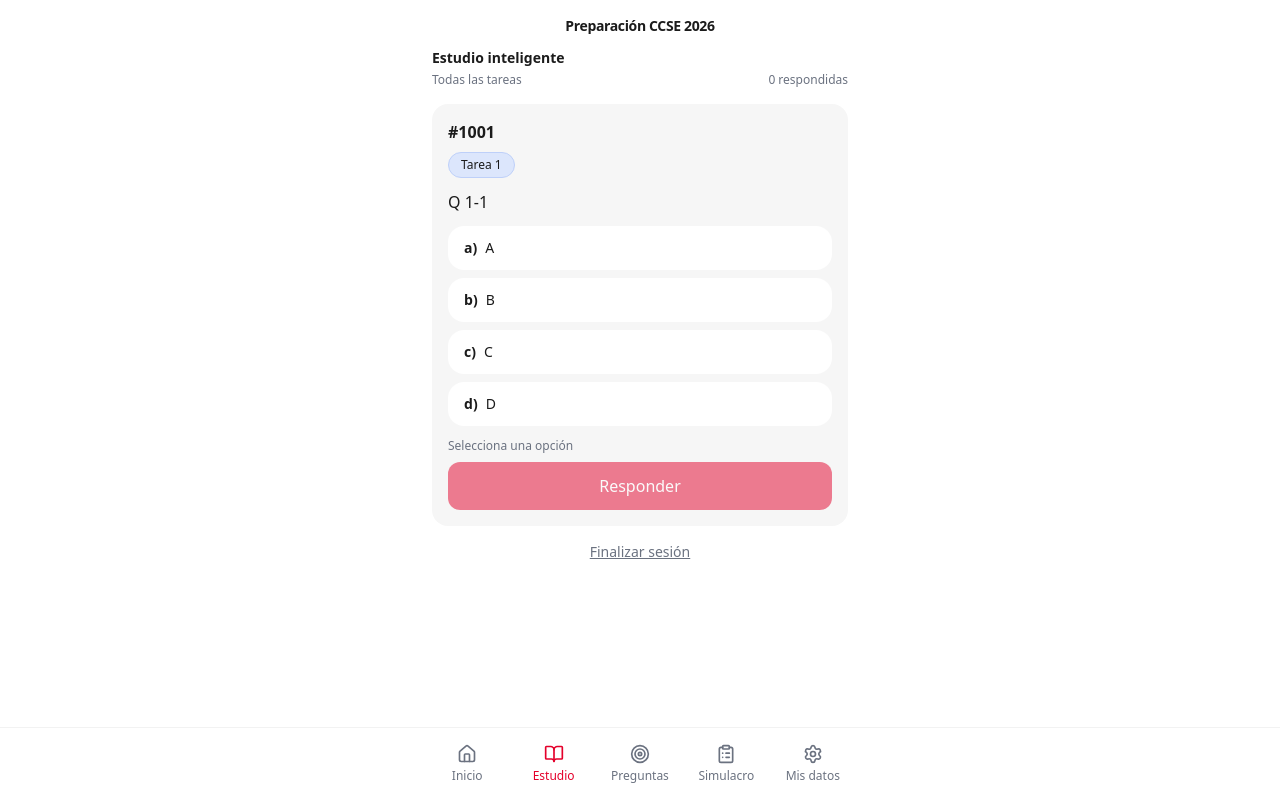
Test: UI: estudio inteligente › lets you answer and requires confidence when correct
This screenshot has width=1280, height=800.
Expected: the text "Estudio inteligente" is shown, [432,48,565,67]
Note: choose a) and respond (fixture answers are always 'a')
Step 1. Click the text "a)" → (471, 248), box [464,238,477,257]
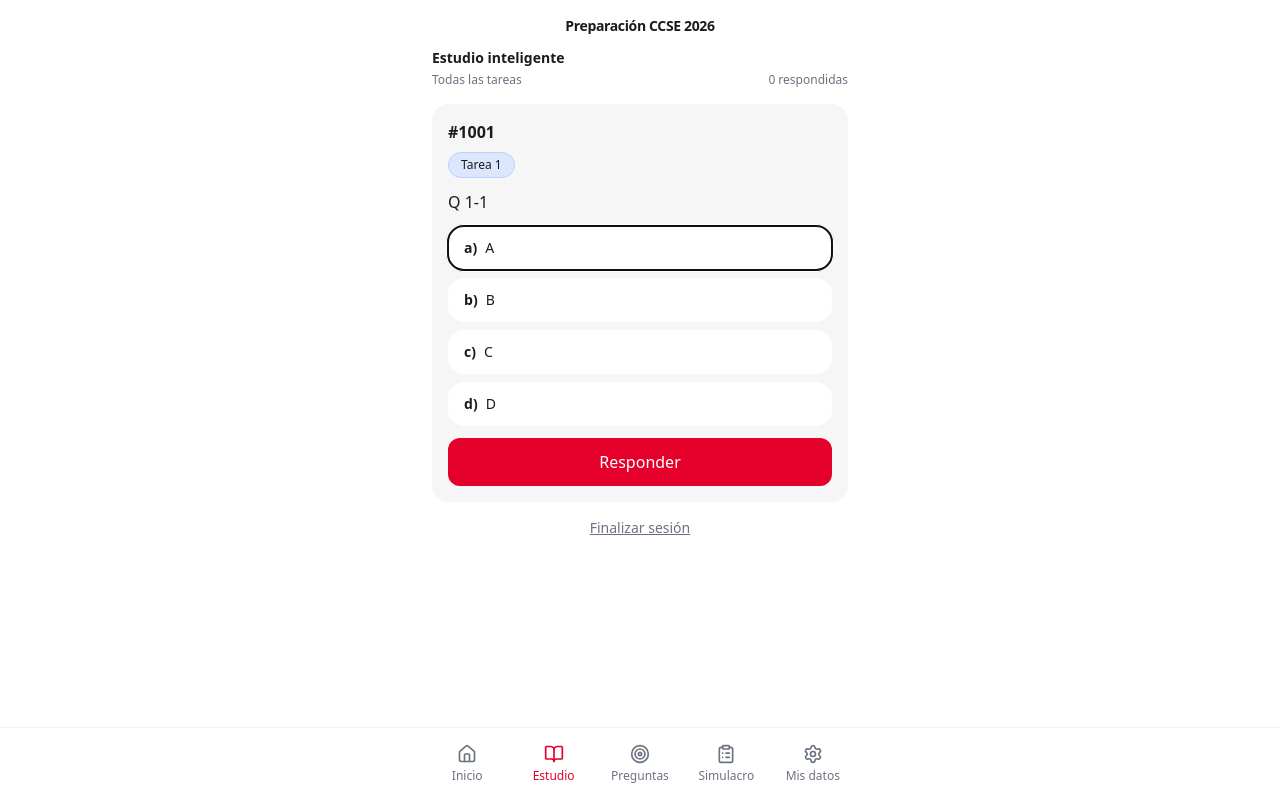
Step 2. Click the button "Responder" → (640, 462), box [448,438,832,486]
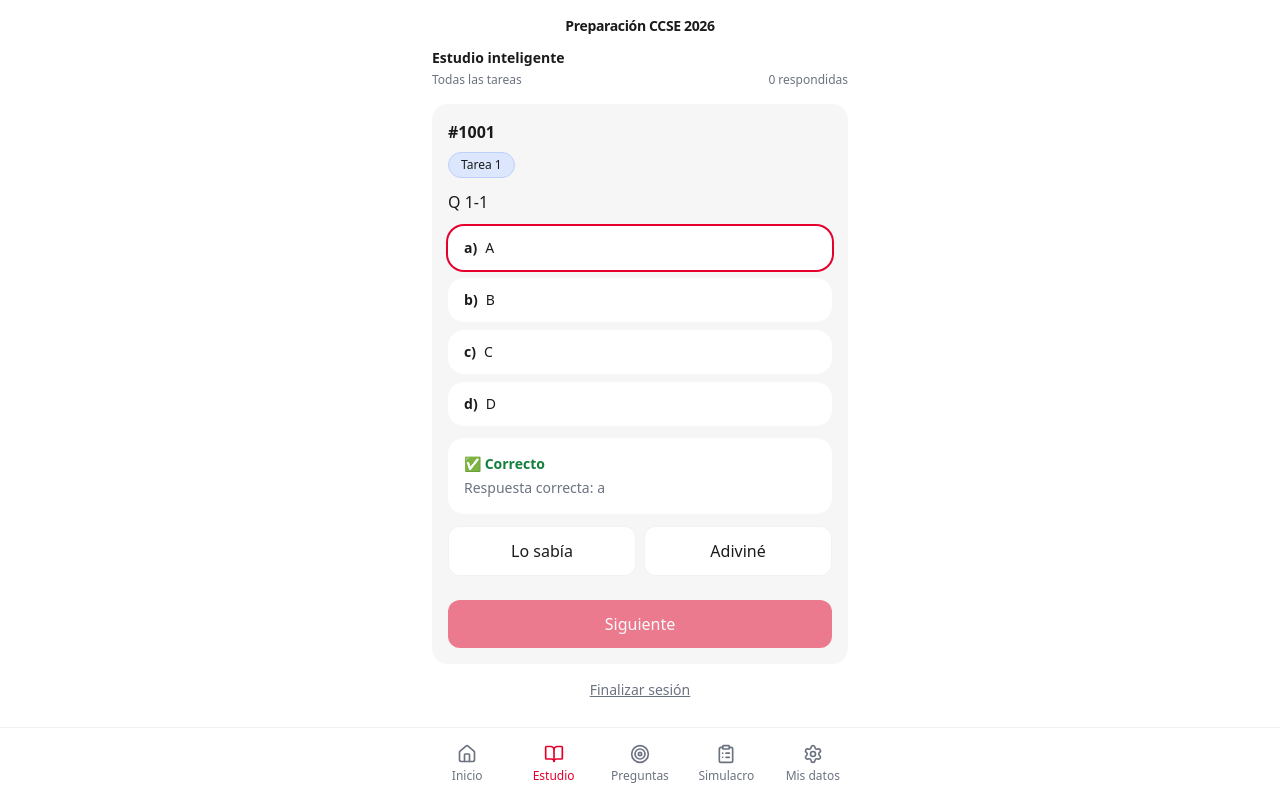
Now the text "Respuesta correcta: a" is shown, box [464,478,605,497]
Now the button "Siguiente" is disabled, box [448,600,832,648]
Step 3. Click the button "Lo sabía" → (542, 551), box [448,526,636,576]
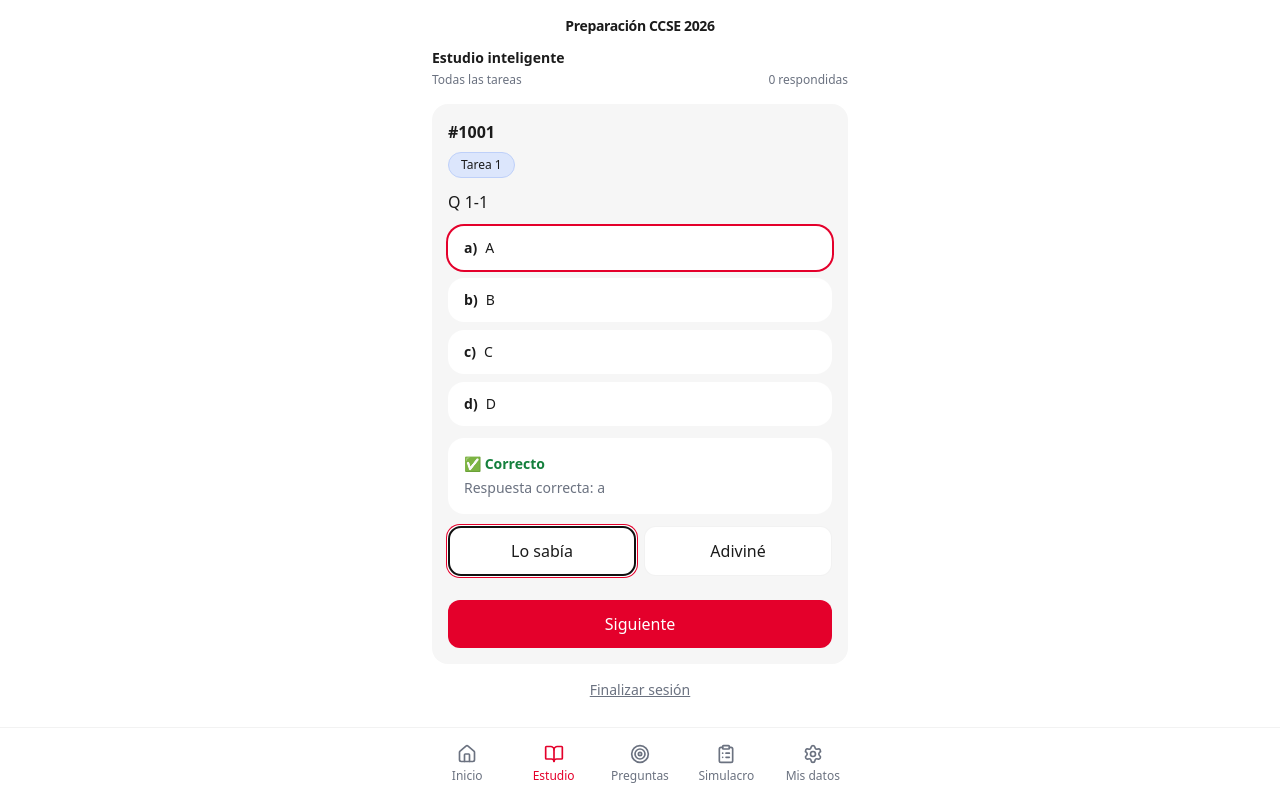
Now the button "Siguiente" is enabled
Step 4. Click the button "Siguiente" → (640, 624), box [448,600,832,648]
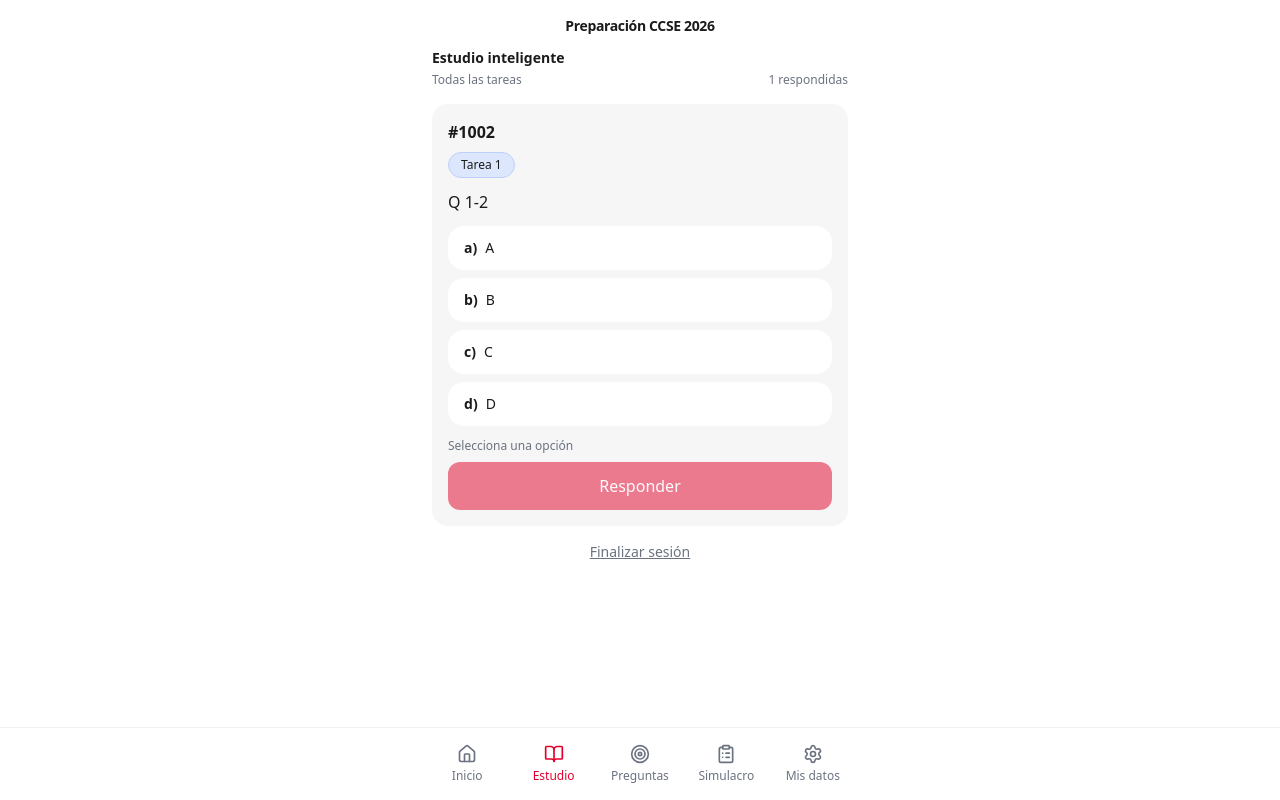
Now the text "1 respondidas" is shown, box [768,72,848,88]
